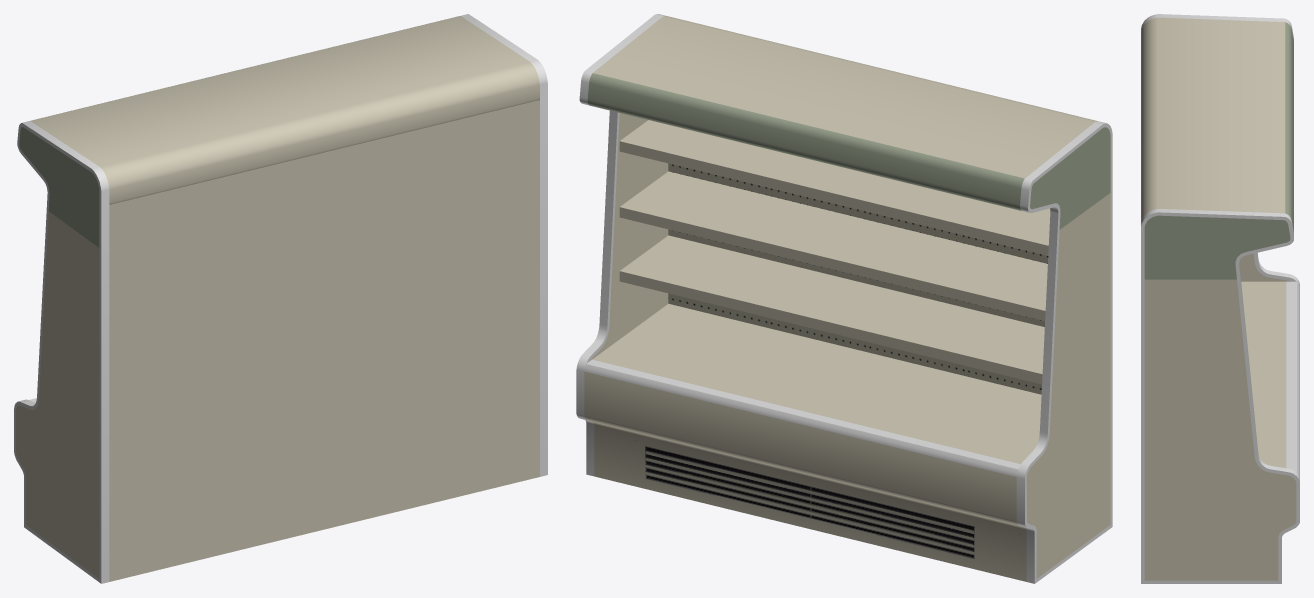
The model's file is shopFridge.fbx.
The picture shows the model from 3 angles, left to right: view 1: azimuth 30°, elevation 25°; view 2: azimuth 150°, elevation 25°; view 3: azimuth 270°, elevation 25°; orthographic projection. The views are drawn at different scales.
Parts seen in each view (by area): view 1: Cube; view 2: Cube; view 3: Cube.
Boxes of the visible parts, left/top/right/bottom form: Cube: left=14, top=14, right=547, bottom=583; Cube: left=576, top=14, right=1112, bottom=583; Cube: left=1141, top=14, right=1299, bottom=583.
Size of the model in its own units: 280 by 244 by 94.68.
